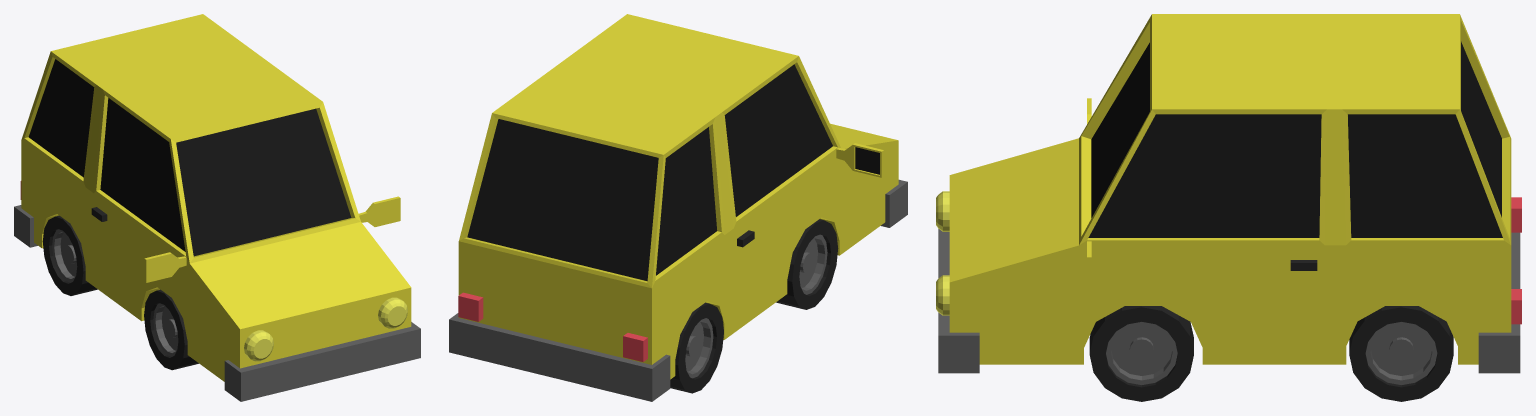
File: car02.fbx
3 renders of one model, left to right at view 1: azimuth 30°, elevation 25°; view 2: azimuth 150°, elevation 25°; view 3: azimuth 270°, elevation 25°, orthographic. The views are drawn at different scales.
Parts seen in each view (by area): view 1: Cube.016; view 2: Cube.016; view 3: Cube.016.
Boxes of the visible parts, left/top/right/bottom form: Cube.016: left=14, top=14, right=420, bottom=401; Cube.016: left=449, top=14, right=907, bottom=401; Cube.016: left=936, top=14, right=1521, bottom=401.
Bounding box in the file's own units: 323 × 271 × 502.
